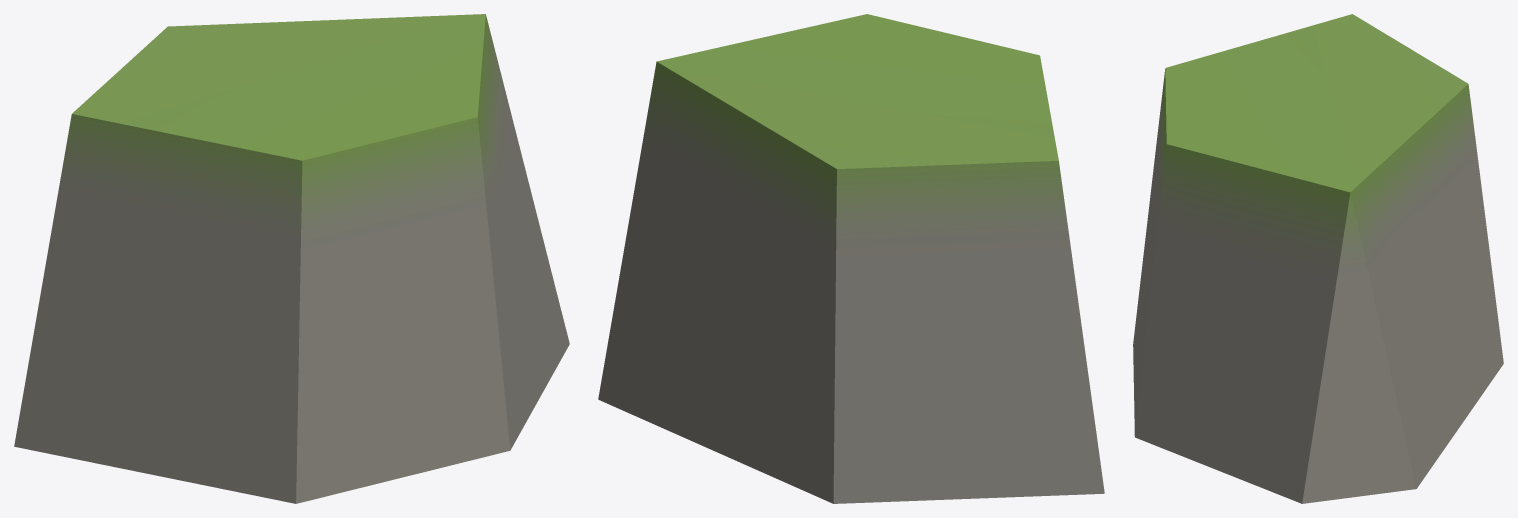
Rendered from Rock_2.fbx.
3 renders of one model, left to right at view 1: azimuth 30°, elevation 25°; view 2: azimuth 150°, elevation 25°; view 3: azimuth 270°, elevation 25°, orthographic. The views are drawn at different scales.
Parts seen in each view (by area): view 1: MS_Rock_01; view 2: MS_Rock_01; view 3: MS_Rock_01.
Boxes of the visible parts, <box> form: MS_Rock_01: <box>14,14,569,503</box>; MS_Rock_01: <box>598,14,1104,503</box>; MS_Rock_01: <box>1133,14,1503,503</box>.
Size of the model in its own units: 143 by 84.57 by 99.02.
